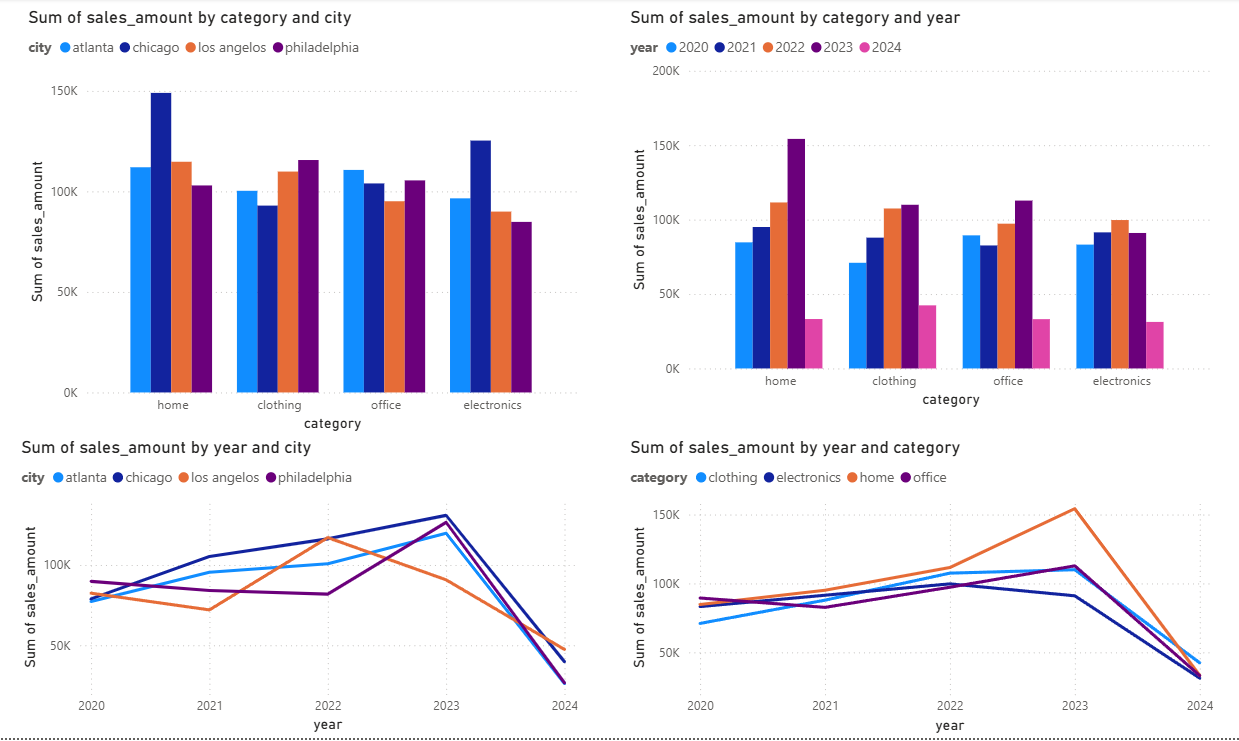

The dashboard page shown, as its layout file describes it:
{"tool":"powerbi","page":{"name":"Page 1","canvas":[1280,720],"ordinal":0},"visuals":[{"type":"clusteredColumnChart","fields":{"Y":["Sum(p7_cube.sales_amount)"],"Category":["p7_cube.category"],"Series":["p7_cube.city"]},"box":[37.9,8.8,544.7,418.2],"z":0},{"type":"clusteredColumnChart","fields":{"Category":["p7_cube.category"],"Y":["Sum(p7_cube.sales_amount)"],"Series":["p7_cube.year"]},"box":[623.5,8.8,576.8,394.9],"z":1000},{"type":"lineChart","fields":{"Category":["p7_cube.year"],"Y":["Sum(p7_cube.sales_amount)"],"Series":["p7_cube.city"]},"box":[31.1,427,551.5,292.8],"z":2000},{"type":"lineChart","fields":{"Y":["Sum(p7_cube.sales_amount)"],"Category":["p7_cube.year"],"Series":["p7_cube.category"]},"box":[623,427,577,293],"z":3000}]}

Visuals, with their boxes on the page's 1280x720 design canvas (x1, y1, x2, y2). These are canvas units, not pixel positions in the 1239x741 screenshot, which may show the page scaled, cropped or inside an application window:
clusteredColumnChart - Sum(p7_cube.sales_amount) x p7_cube.category: bbox=(38, 9, 583, 427)
clusteredColumnChart - p7_cube.category x Sum(p7_cube.sales_amount): bbox=(624, 9, 1200, 404)
lineChart - p7_cube.year x Sum(p7_cube.sales_amount): bbox=(31, 427, 583, 720)
lineChart - Sum(p7_cube.sales_amount) x p7_cube.year: bbox=(623, 427, 1200, 720)
